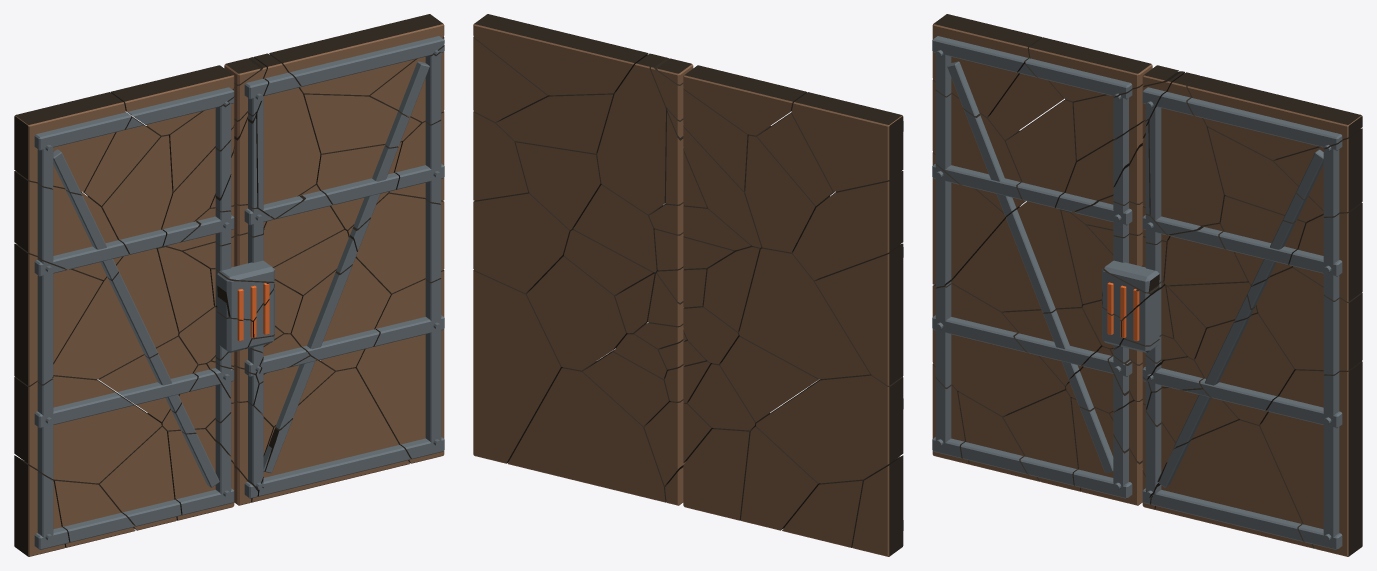
File: SM_DoorCracked_01.fbx
3 views of the same model, side by side, from view 1: azimuth 30°, elevation 25°; view 2: azimuth 150°, elevation 25°; view 3: azimuth 330°, elevation 25° (orthographic).
Visible parts, largest first — view 1: SM_DoorCracked_01; view 2: SM_DoorCracked_01; view 3: SM_DoorCracked_01.
Part boxes in pixels (left/top/right/bottom): SM_DoorCracked_01: left=14, top=14, right=444, bottom=556; SM_DoorCracked_01: left=473, top=14, right=903, bottom=556; SM_DoorCracked_01: left=932, top=14, right=1362, bottom=556.
Size of the model in its own units: 257 by 35 by 255.
